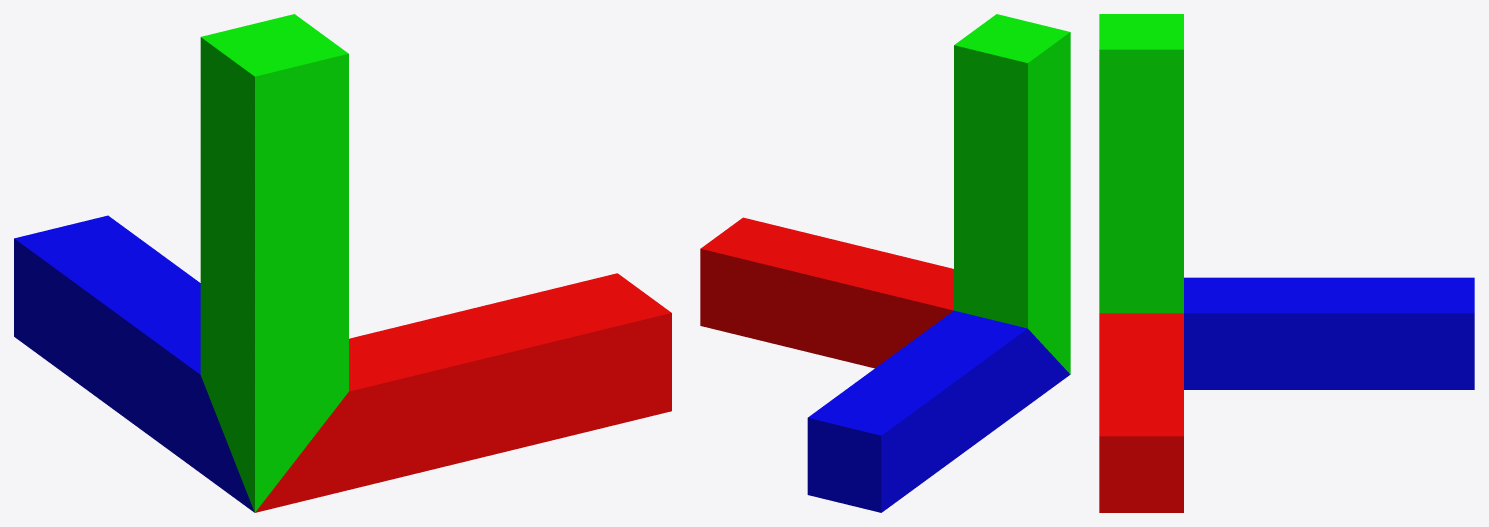
Rendered from Anchor.fbx.
The picture shows the model from 3 angles, left to right: view 1: azimuth 30°, elevation 25°; view 2: azimuth 150°, elevation 25°; view 3: azimuth 270°, elevation 25°; orthographic projection. The views are drawn at different scales.
Visible parts, largest first — view 1: anchorMesh; view 2: anchorMesh; view 3: anchorMesh.
Boxes of the visible parts, x1=… form: anchorMesh: x1=14, y1=14, x2=671, y2=512; anchorMesh: x1=700, y1=14, x2=1070, y2=512; anchorMesh: x1=1099, y1=14, x2=1474, y2=512.
Size of the model in its own units: 8.87 by 8.87 by 8.87.
